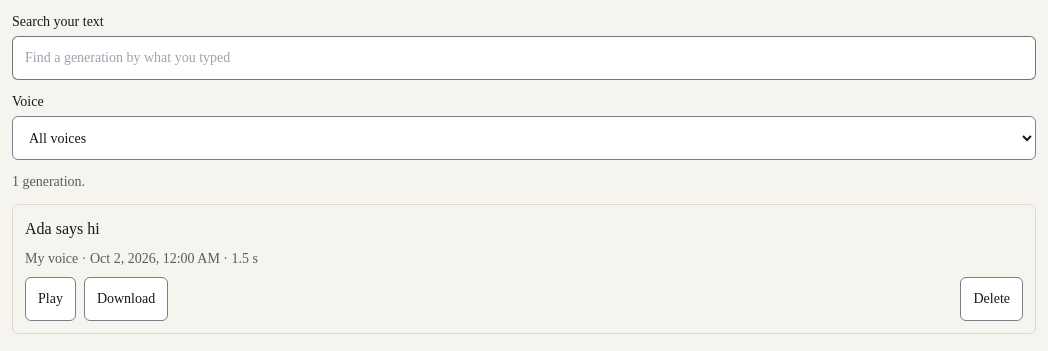
History voice filter › says so when the chosen voice has no generations, and keeps the filter usable
The image size is (1048, 351).
Select "Bob" in the dropdown labelled "Voice" at (524, 138), box [12,116,1036,160]
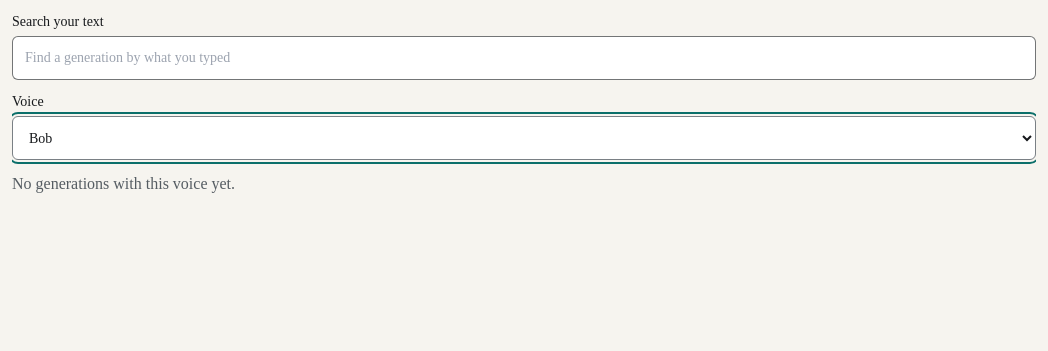
Expected: the text "No generations with this voice yet." is shown, [12,175,235,192]
